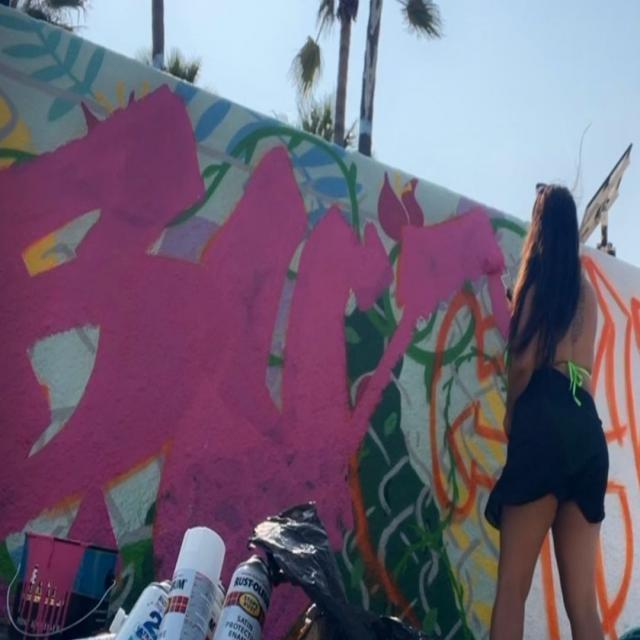nonspitting: (0, 84, 513, 637), (429, 248, 640, 640)
